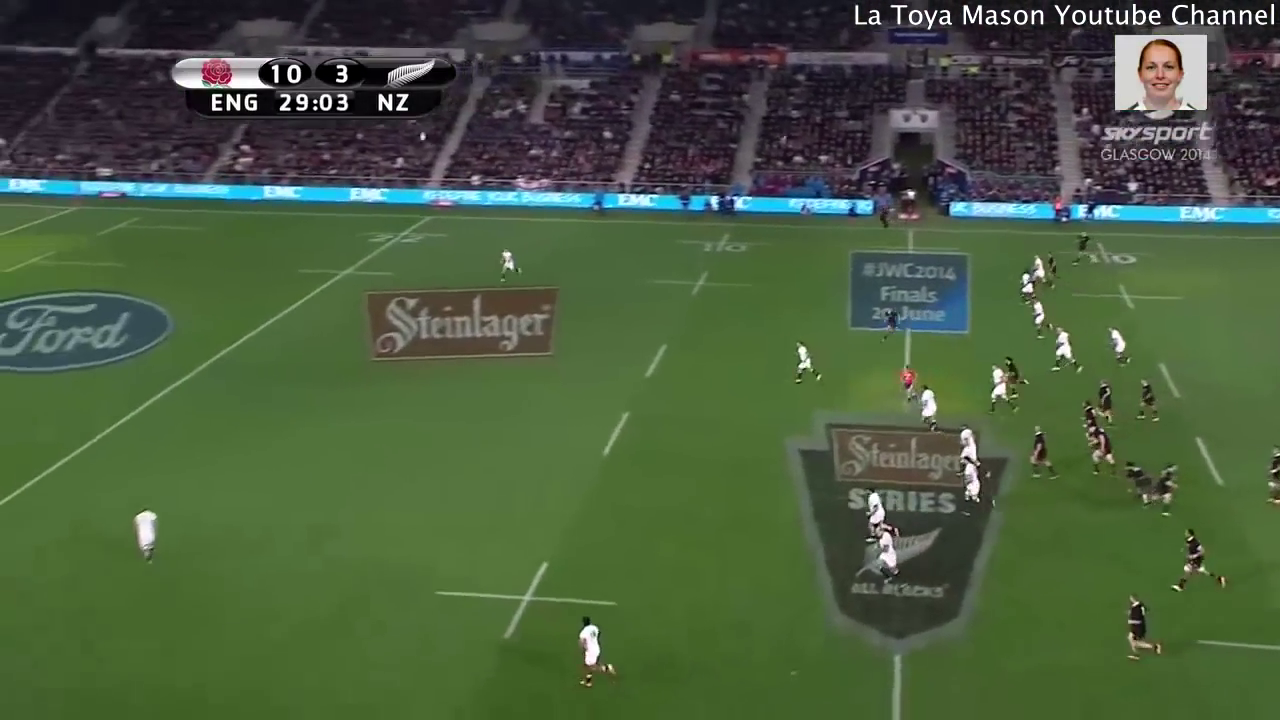10_metre: (428, 553, 630, 655), (641, 264, 765, 303), (1068, 279, 1187, 316), (676, 225, 766, 258), (1064, 242, 1152, 270)
ball: (416, 127, 430, 145)
player: (1163, 524, 1233, 603), (568, 606, 624, 694), (1116, 591, 1167, 668), (122, 500, 167, 568), (1024, 416, 1066, 486), (954, 452, 997, 519), (867, 522, 908, 585), (863, 481, 902, 545), (984, 360, 1024, 418), (783, 336, 825, 390), (1114, 456, 1155, 511), (1084, 419, 1120, 480), (1046, 321, 1085, 377), (1146, 457, 1181, 519), (952, 420, 985, 474), (1133, 374, 1163, 424), (915, 379, 940, 438), (999, 353, 1031, 399), (1094, 376, 1121, 429), (1103, 324, 1133, 371), (1074, 393, 1098, 449), (1027, 291, 1053, 340), (495, 246, 525, 285), (880, 300, 904, 346), (895, 360, 920, 404), (1027, 252, 1051, 288), (1014, 268, 1038, 304), (1070, 230, 1093, 267), (1043, 249, 1063, 283)
